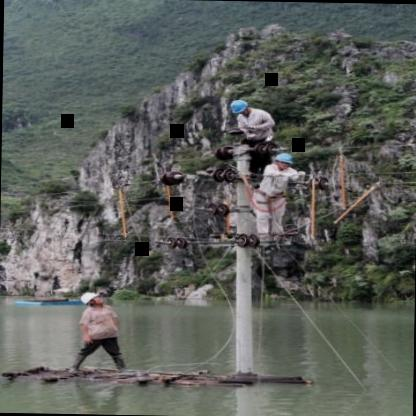helmet: (270, 152, 297, 173), (77, 290, 105, 310), (228, 97, 253, 116)
